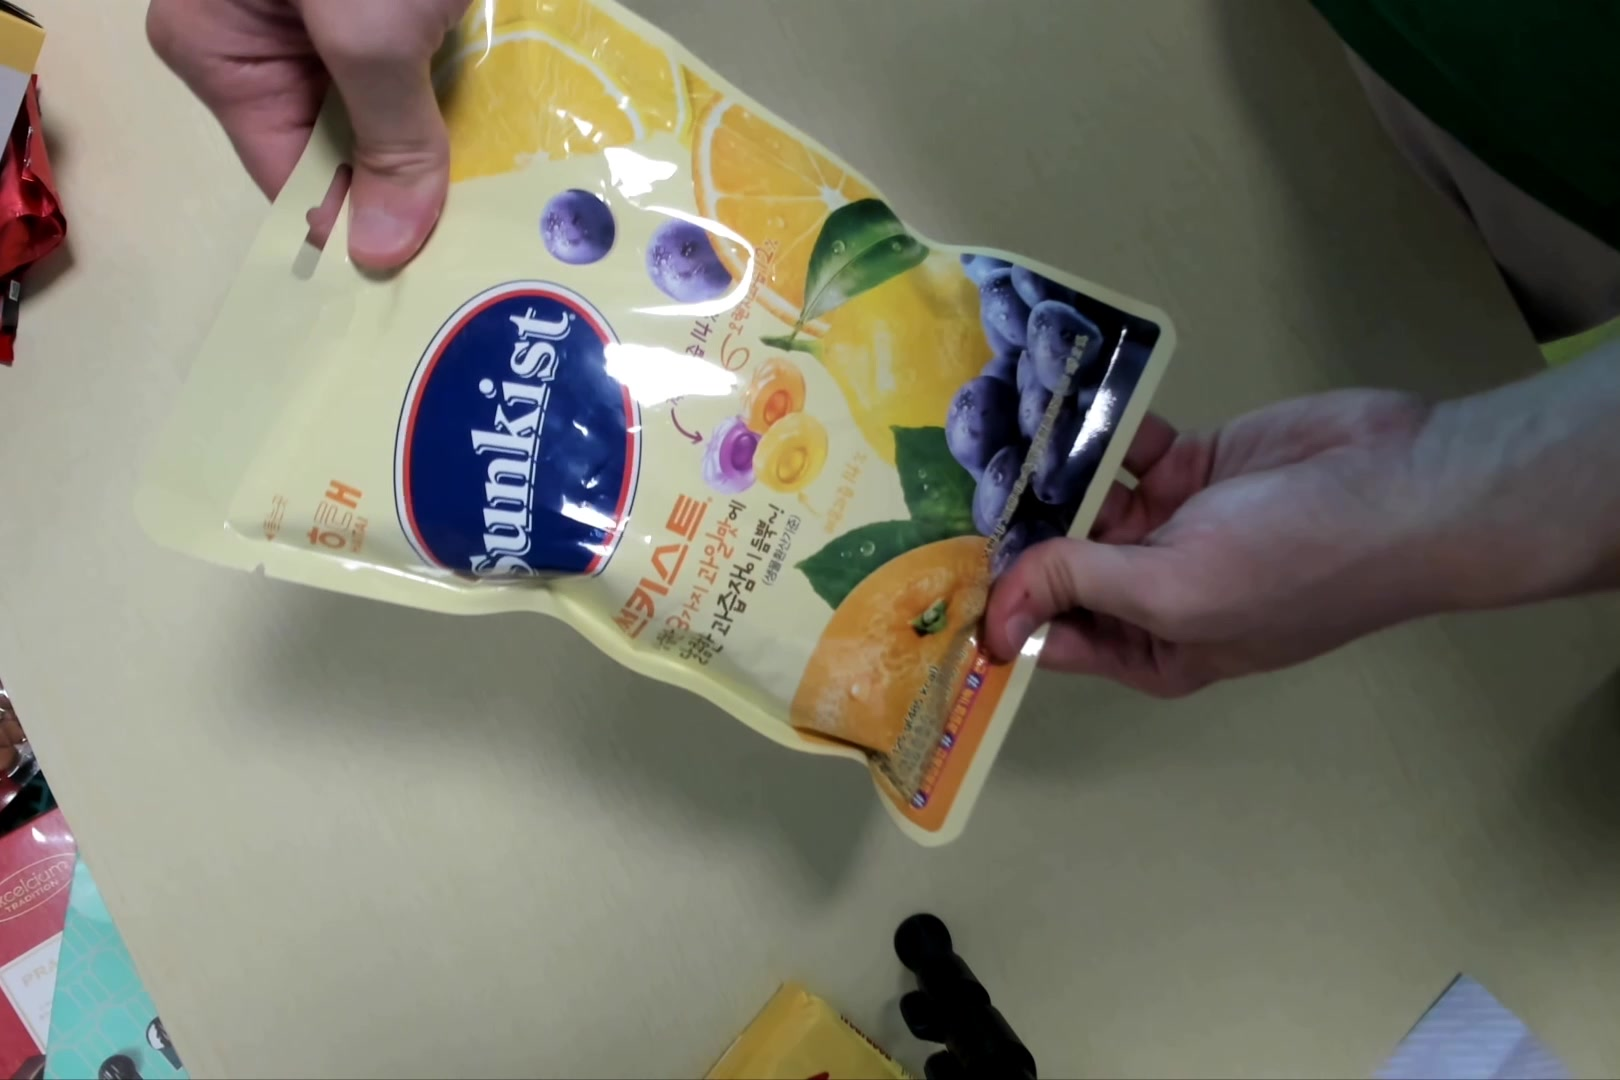SweetsChocolatesOthers_100-199g_NonHalal_NonHealthy: (149, 10, 1180, 847)
